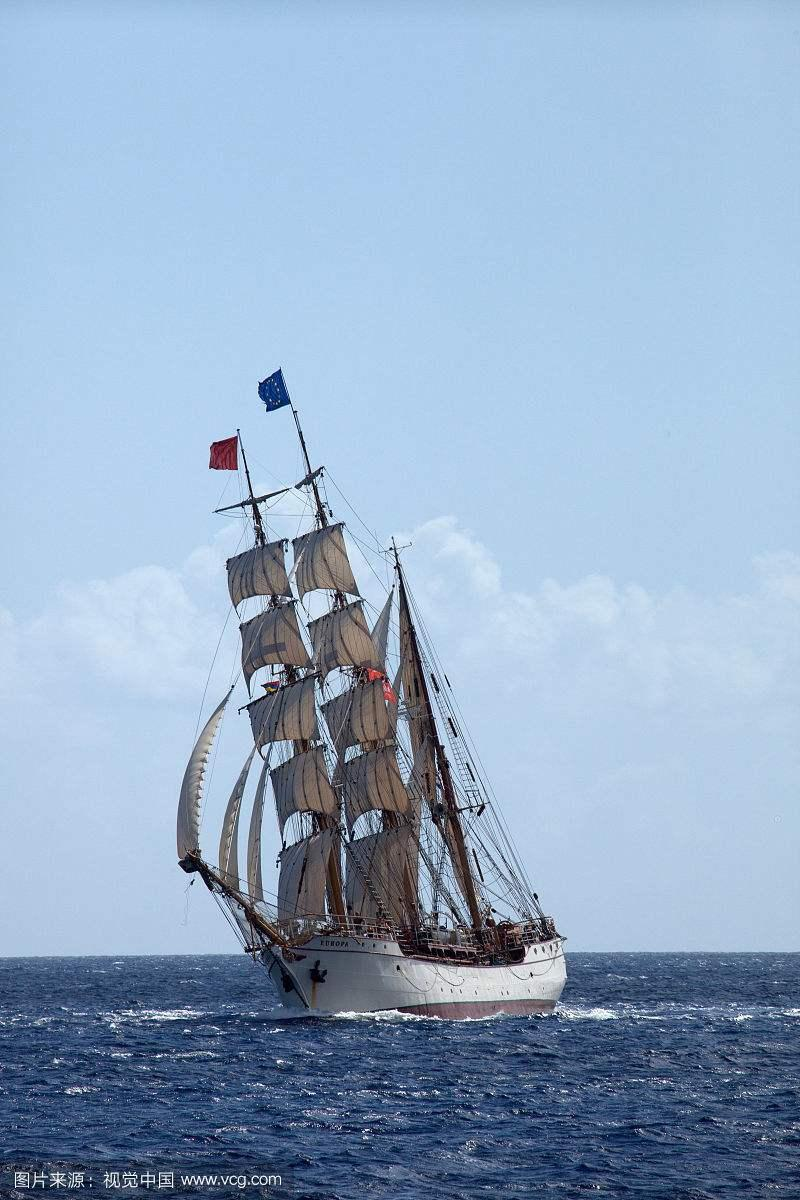fanchuan: (167, 351, 577, 1015)
